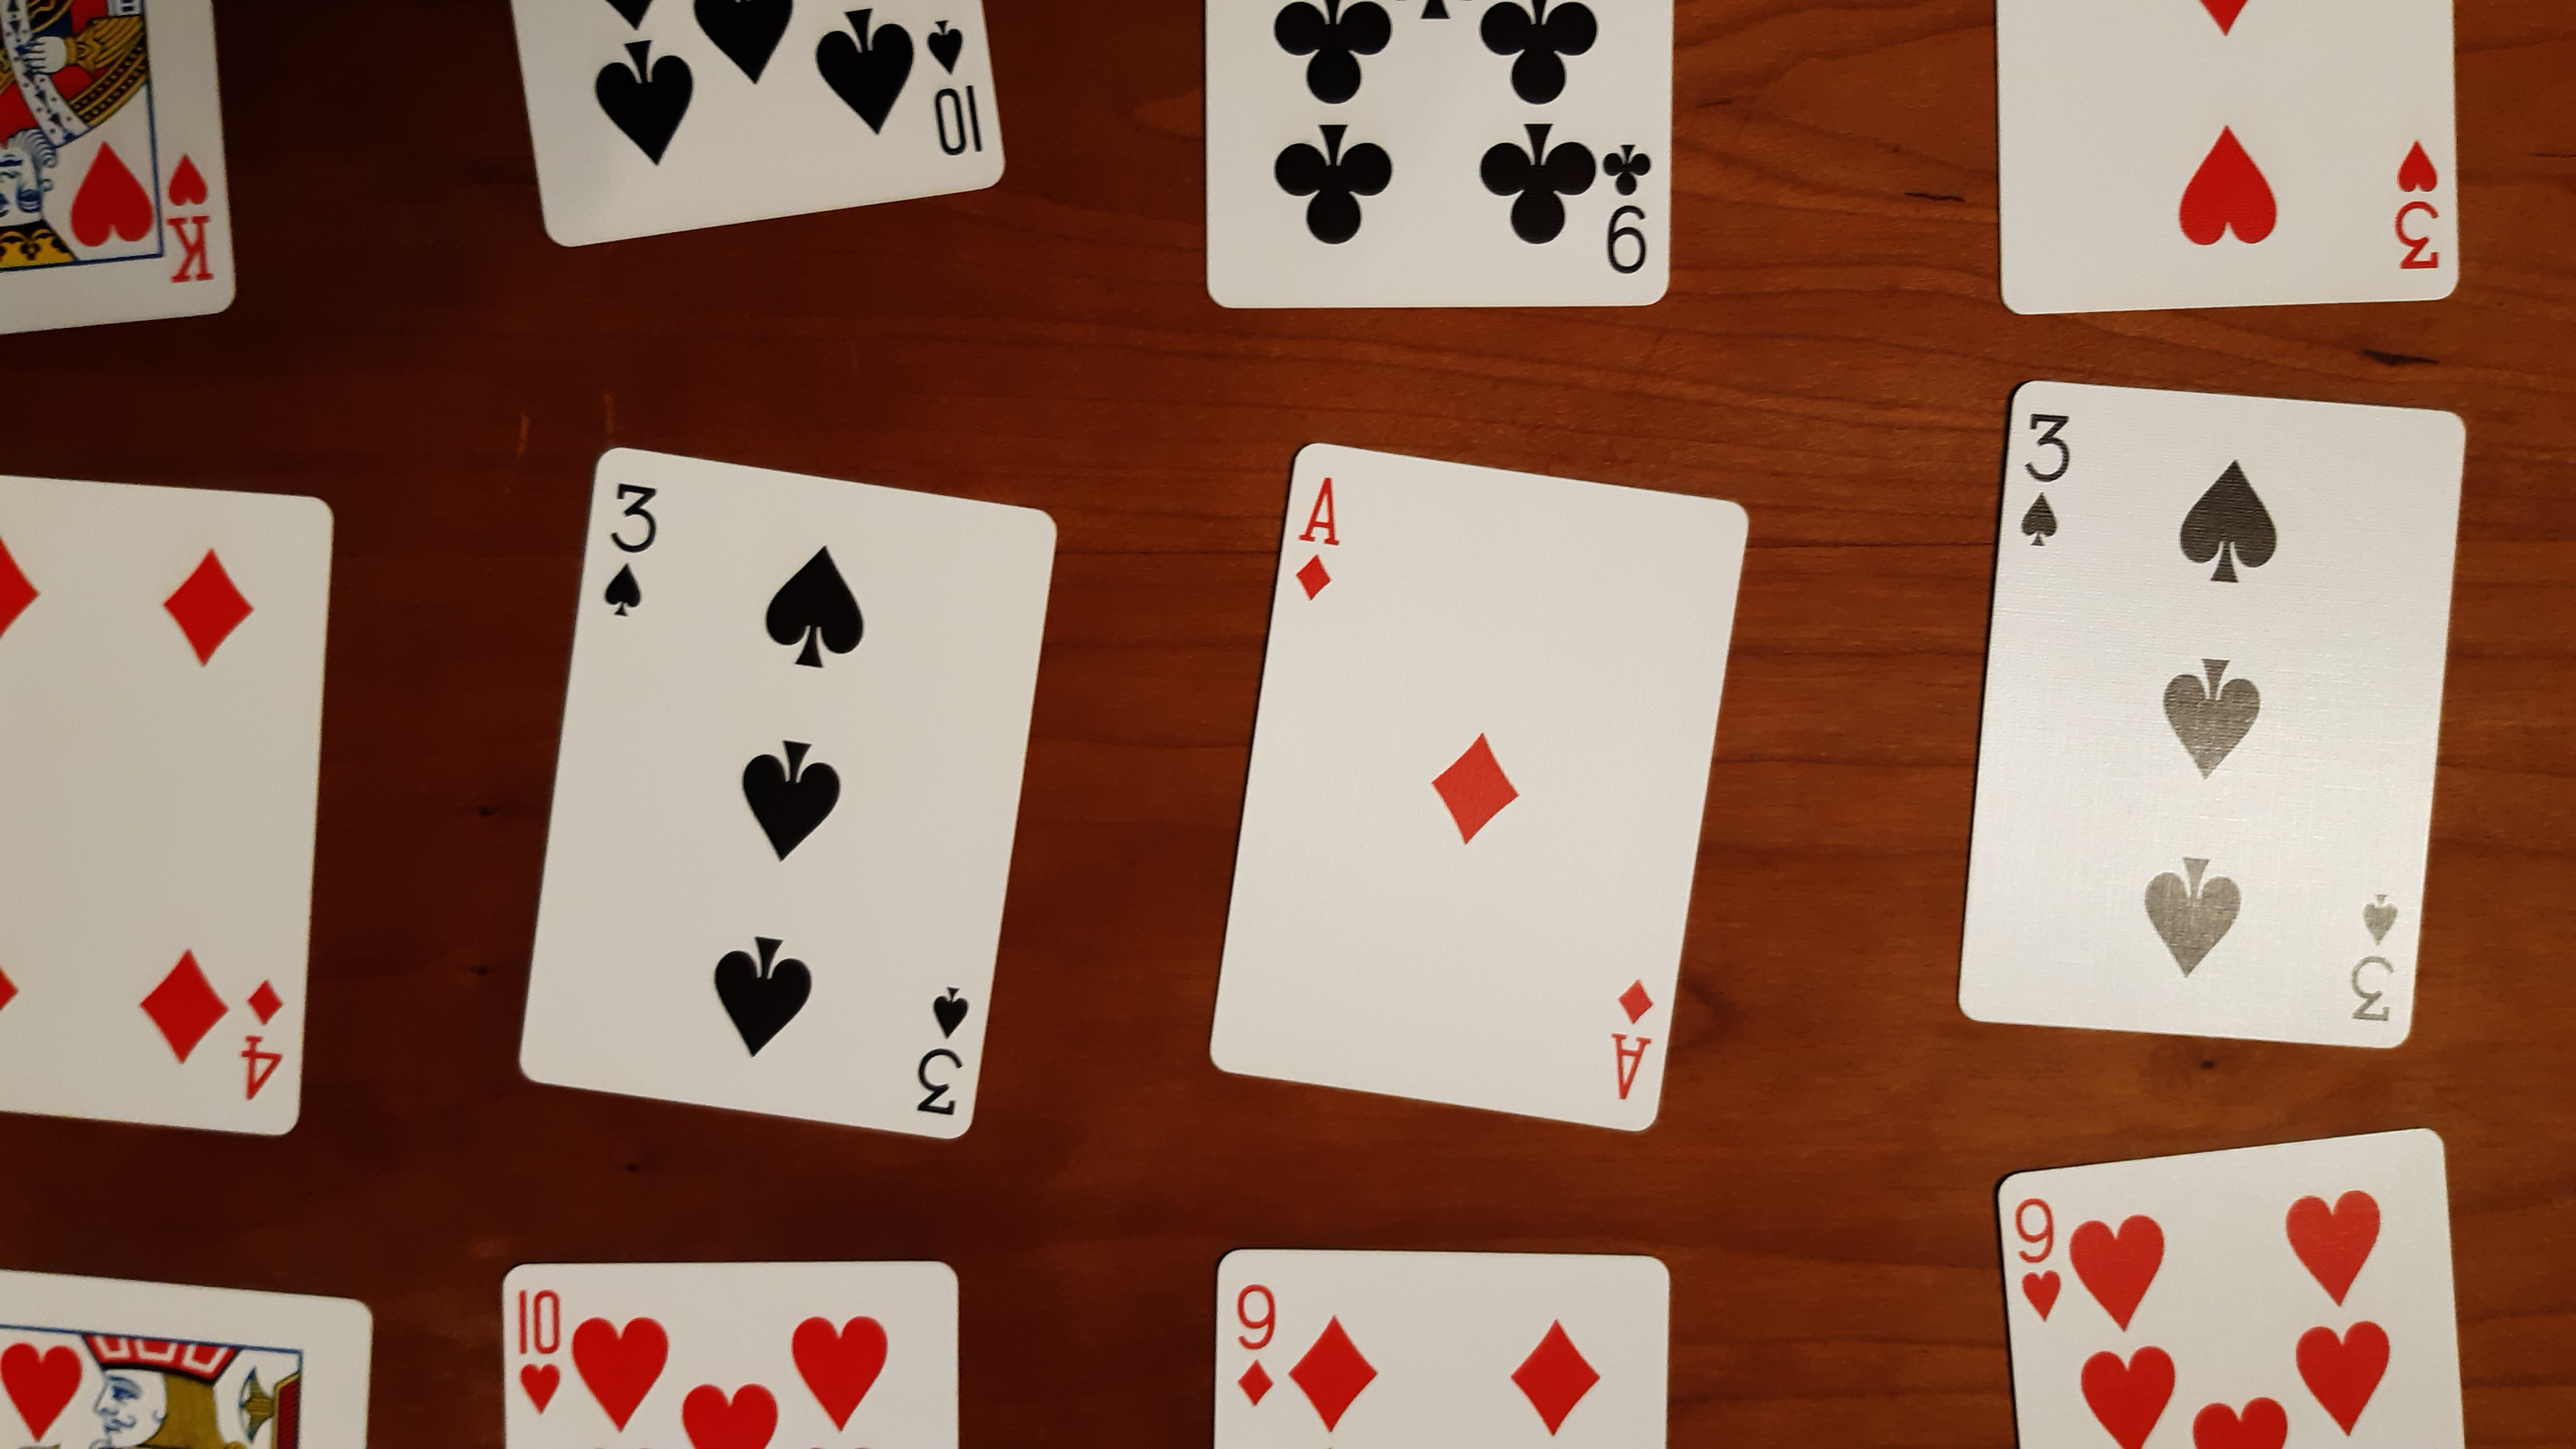Black_Spade_10: (922, 18, 994, 166)
Black_Spade_3: (594, 476, 667, 623), (2015, 398, 2079, 556), (909, 984, 971, 1134), (2346, 878, 2399, 1026)
Red_Diamond_4: (234, 975, 285, 1102)
Red_Diamond_Ace: (1290, 471, 1346, 605), (1608, 975, 1654, 1102)
Red_Heart_10: (511, 1279, 568, 1421)
Red_Heart_3: (2383, 133, 2450, 278)
Red_Heart_9: (2010, 1155, 2394, 1445)
Red_Heart_King: (152, 149, 226, 294)
